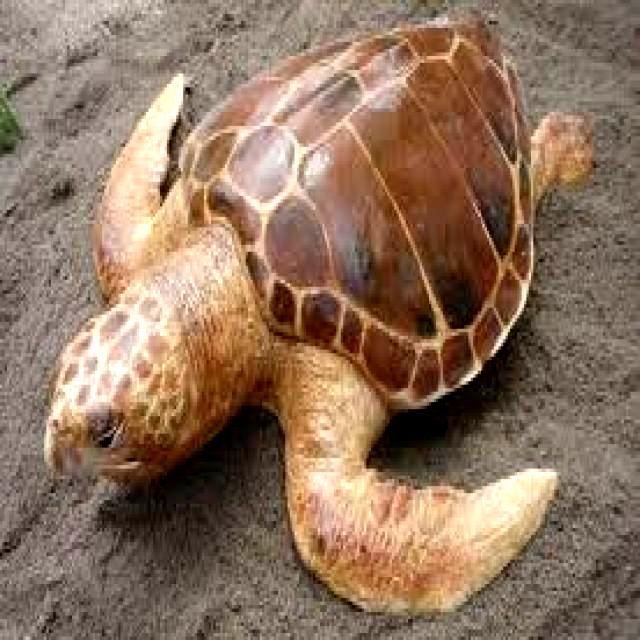Sea turtle: (8, 29, 586, 618)
